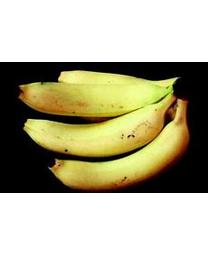banana: (20, 91, 175, 156)
